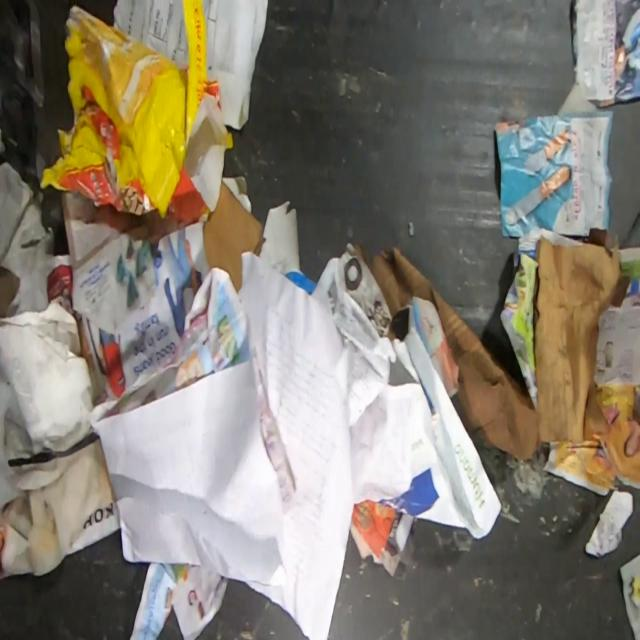cardboard: (355, 244, 541, 461), (203, 179, 264, 293)
soft_plastic: (40, 0, 234, 228)
